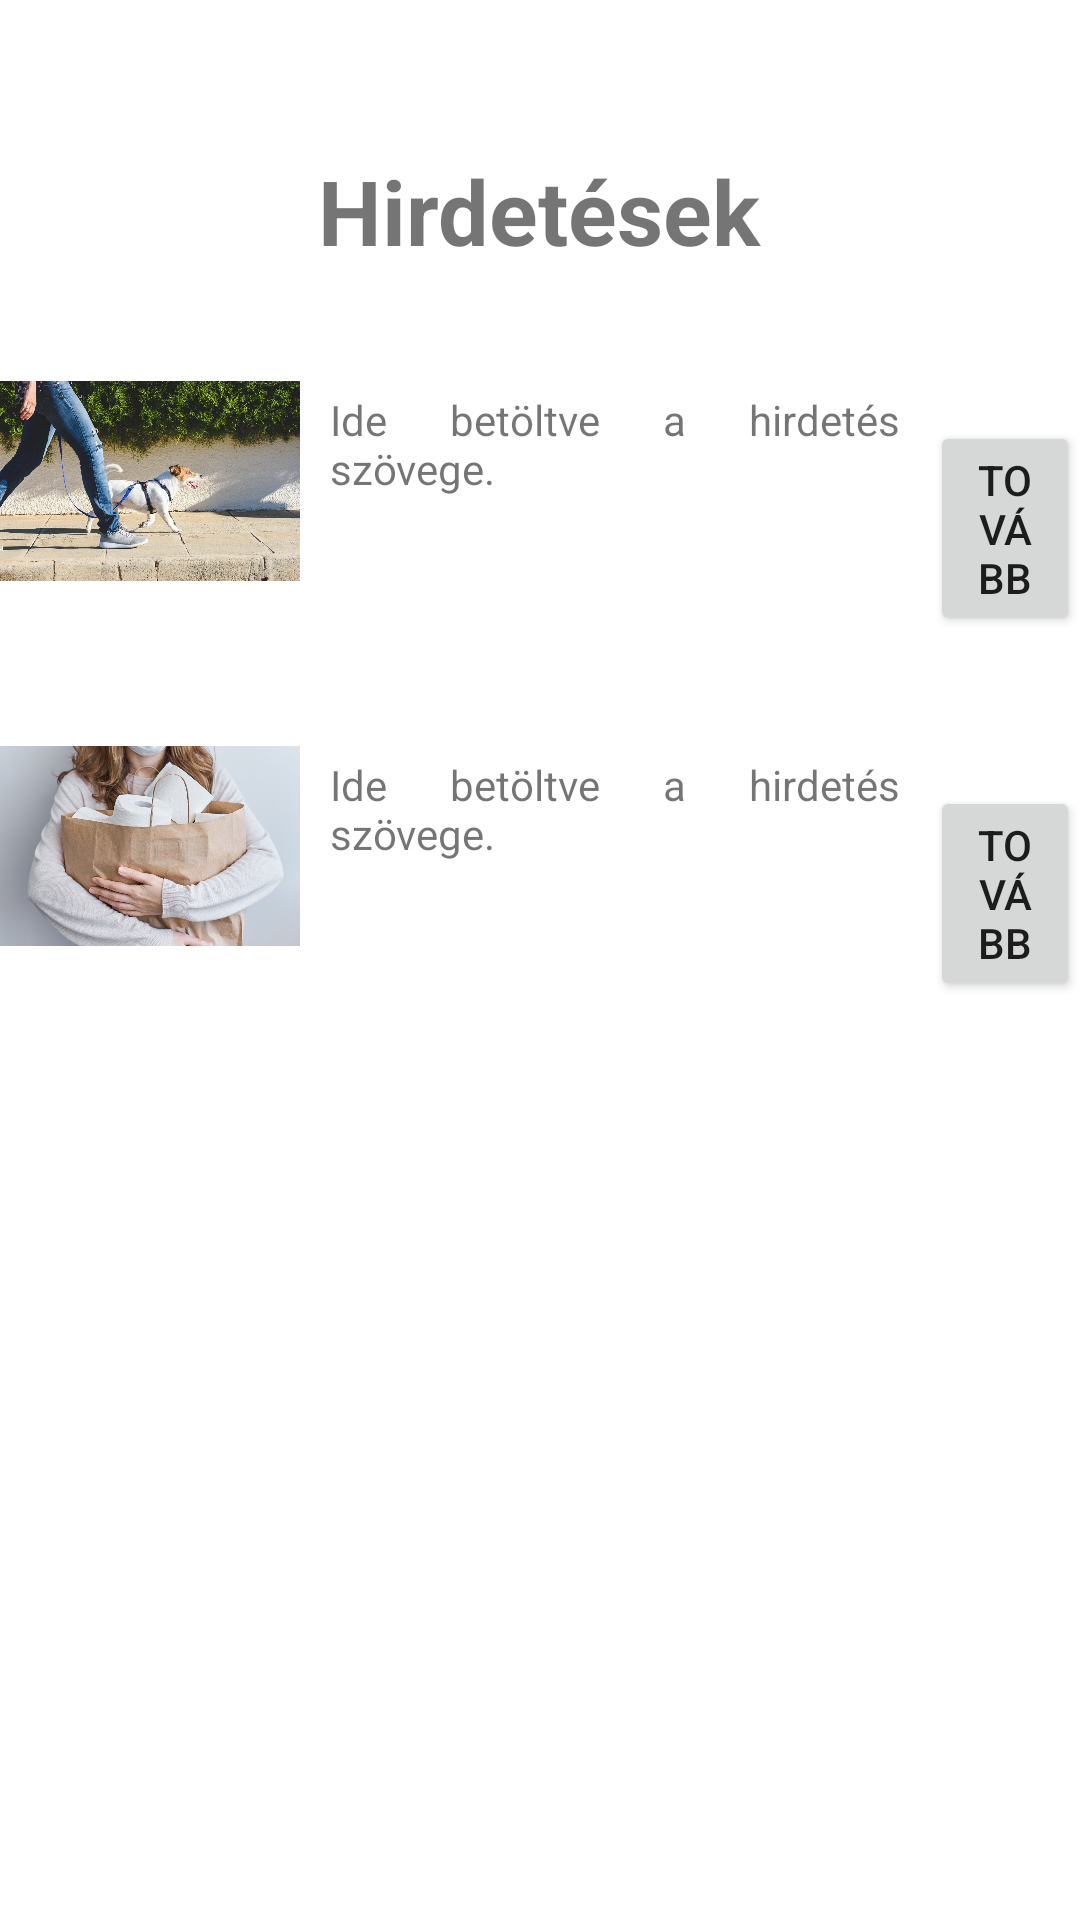

Named icons in this screenshot (1080px x 1920px) and their centers, (x=x, y=y):
bevasarlas: (x=150, y=846)
kutyasetaltatas: (x=150, y=481)
